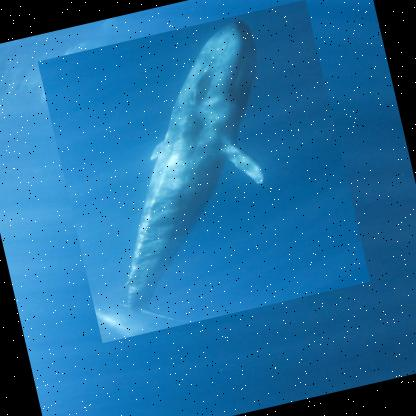blue_whale: (37, 0, 372, 344)
